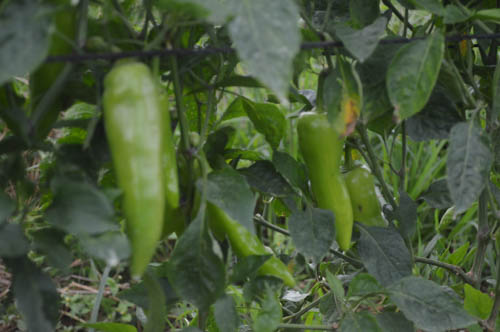ChiliPepper: (99, 66, 166, 280), (205, 183, 292, 286), (293, 115, 349, 249), (348, 169, 381, 225)
